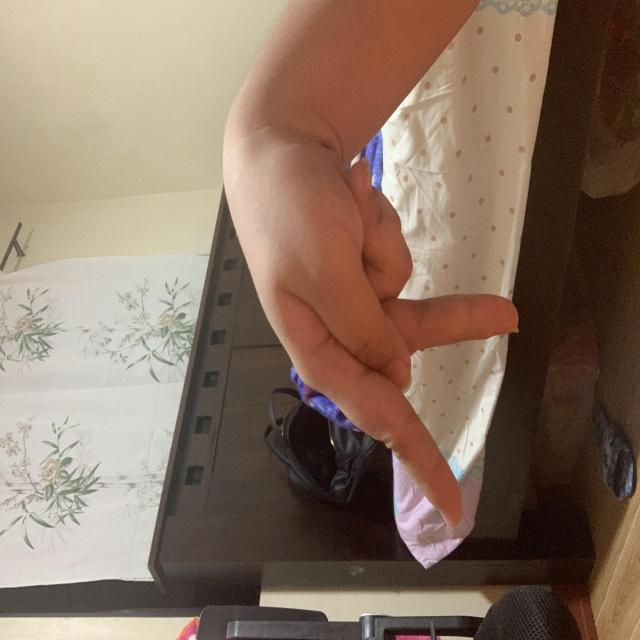P: (142, 213, 530, 519)
